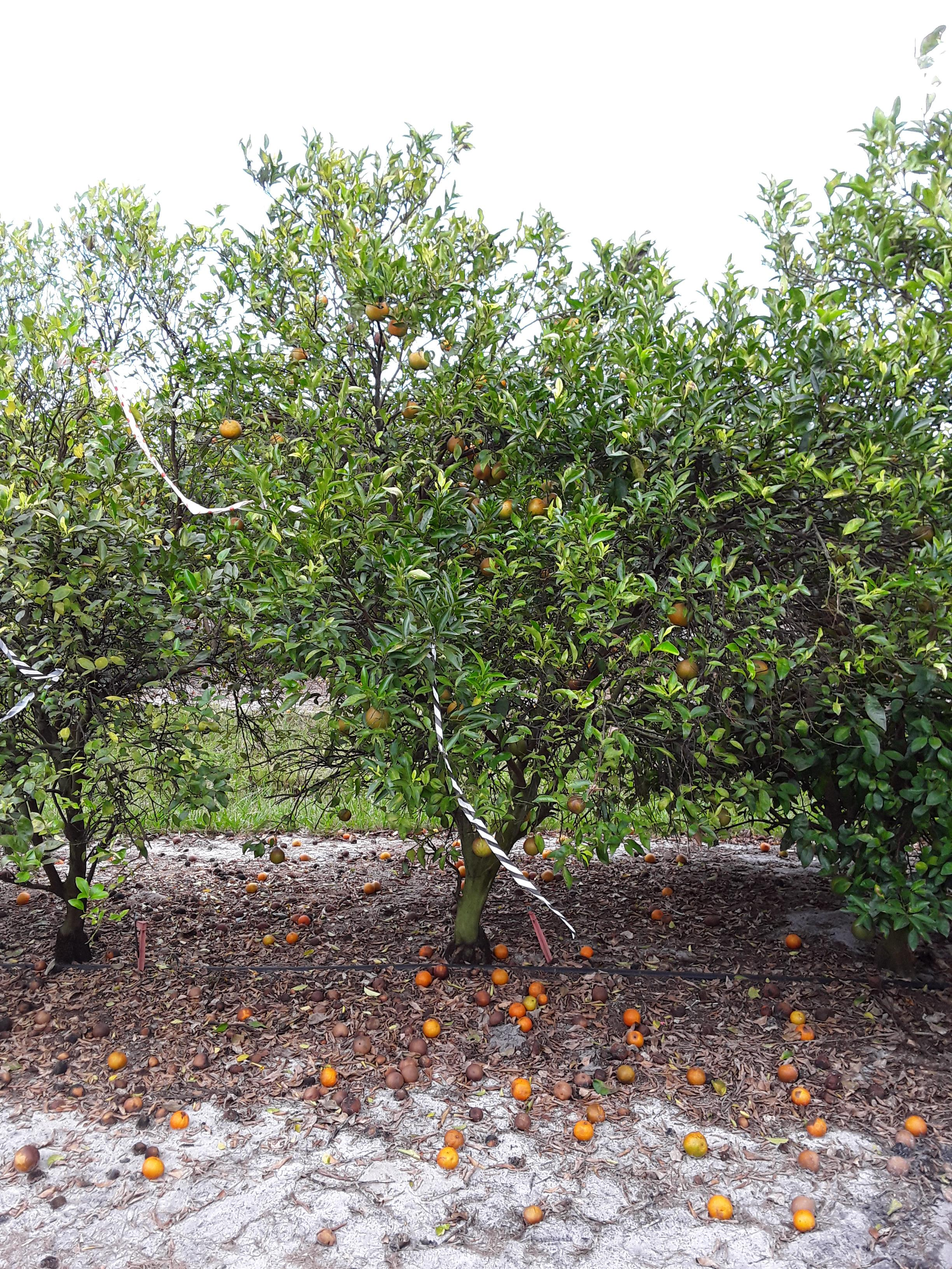fruit_on_ground: (364, 702, 399, 731), (674, 653, 703, 682), (831, 541, 861, 566), (919, 586, 943, 614), (912, 523, 938, 548), (219, 416, 244, 441), (854, 915, 877, 942), (668, 601, 690, 628), (472, 834, 495, 858), (521, 835, 546, 856), (364, 301, 390, 321), (407, 352, 432, 372), (567, 794, 589, 816), (446, 692, 466, 716), (387, 319, 413, 337), (446, 435, 469, 455), (747, 658, 771, 677), (472, 462, 494, 482), (540, 491, 562, 511), (495, 499, 515, 521), (509, 735, 529, 757), (527, 494, 546, 517), (267, 430, 288, 450), (492, 459, 510, 482), (549, 313, 569, 333), (539, 476, 560, 495), (714, 808, 733, 829), (428, 800, 448, 819), (619, 366, 638, 385), (565, 315, 584, 333), (585, 363, 604, 381), (470, 368, 487, 388), (478, 556, 494, 577), (464, 442, 482, 460), (118, 477, 135, 496), (471, 496, 488, 515), (228, 516, 247, 533), (182, 604, 202, 620), (372, 331, 390, 348), (406, 404, 422, 423), (434, 556, 450, 575), (537, 361, 556, 377), (314, 287, 329, 307), (344, 318, 359, 338), (345, 222, 362, 239), (464, 545, 483, 560), (439, 336, 454, 355), (520, 808, 536, 825), (291, 346, 304, 365), (337, 807, 353, 822), (539, 564, 553, 581), (456, 479, 474, 492), (566, 678, 580, 694), (499, 374, 511, 389), (587, 657, 598, 673)
fruit_on_tree: (10, 1145, 47, 1175), (705, 1192, 736, 1223), (681, 1129, 711, 1160), (139, 1155, 169, 1182), (791, 1206, 819, 1234), (797, 1148, 825, 1175), (906, 1112, 932, 1140), (887, 1153, 913, 1180), (682, 1064, 709, 1089), (576, 1119, 601, 1146), (789, 1194, 819, 1215), (513, 1080, 536, 1106), (436, 1147, 459, 1173), (552, 1078, 575, 1103), (793, 1022, 819, 1044), (521, 1204, 547, 1226), (805, 1116, 829, 1139), (894, 1126, 917, 1150), (584, 1101, 606, 1126), (315, 1228, 340, 1248), (106, 1051, 132, 1070), (573, 1070, 595, 1092), (465, 1062, 487, 1083), (352, 1035, 372, 1058), (407, 1037, 430, 1057), (168, 1108, 187, 1132), (413, 970, 435, 990), (192, 1051, 214, 1071), (100, 1109, 122, 1129), (422, 1017, 441, 1040), (322, 1068, 341, 1091), (384, 1070, 407, 1089), (763, 980, 783, 1001), (814, 1003, 835, 1023), (791, 1084, 810, 1106), (65, 1083, 88, 1101), (0, 1063, 15, 1090), (91, 1021, 112, 1040), (610, 1040, 629, 1061), (124, 1090, 143, 1111), (342, 1092, 361, 1113), (134, 1112, 153, 1133), (444, 1129, 463, 1150), (625, 1005, 643, 1027), (38, 1254, 64, 1269), (774, 1000, 794, 1019), (516, 1016, 536, 1035), (824, 1070, 842, 1091), (866, 1083, 887, 1101), (625, 1029, 647, 1046), (814, 1052, 833, 1071), (571, 1012, 591, 1030), (401, 1064, 421, 1082), (517, 1117, 535, 1137), (506, 1002, 527, 1019), (780, 1061, 797, 1082), (234, 1007, 256, 1023), (14, 889, 34, 906), (620, 1067, 637, 1087), (527, 980, 548, 996), (481, 1134, 502, 1150), (49, 1194, 70, 1210), (303, 1086, 322, 1103), (260, 932, 278, 949), (432, 963, 449, 981), (868, 974, 886, 991), (757, 1002, 775, 1019), (467, 1105, 485, 1122), (130, 1138, 148, 1155), (594, 988, 610, 1007), (363, 1015, 382, 1031), (110, 1076, 130, 1091), (284, 929, 302, 945), (32, 958, 50, 974), (492, 968, 508, 986), (789, 1009, 807, 1025), (332, 1021, 348, 1039), (520, 995, 539, 1010), (418, 944, 435, 960), (476, 988, 492, 1005), (310, 989, 327, 1005), (419, 1053, 435, 1070), (295, 913, 313, 928), (493, 947, 508, 965), (16, 1000, 34, 1015), (488, 1012, 506, 1027), (52, 1060, 70, 1075), (245, 879, 259, 898), (34, 1010, 53, 1024), (371, 976, 387, 992), (670, 1003, 686, 1019), (0, 1016, 16, 1032), (28, 976, 45, 991), (137, 1023, 154, 1038), (331, 1090, 349, 1104), (360, 882, 379, 895), (593, 1067, 609, 1082), (186, 985, 203, 999), (327, 986, 341, 1003), (67, 1030, 80, 1048), (737, 1115, 752, 1130), (704, 910, 718, 926), (579, 944, 593, 960), (536, 993, 552, 1007), (399, 1023, 415, 1037), (147, 1052, 161, 1068), (392, 1088, 408, 1102), (154, 1104, 168, 1120), (649, 907, 662, 924), (314, 1000, 328, 1015), (108, 1166, 122, 1181), (786, 932, 799, 948), (248, 1052, 264, 1065), (147, 1143, 160, 1159), (105, 943, 117, 960), (266, 832, 280, 846), (516, 866, 530, 880), (617, 1105, 631, 1119), (450, 836, 465, 849), (540, 869, 555, 882), (255, 871, 271, 883), (253, 1001, 269, 1013), (555, 835, 572, 846), (662, 911, 673, 928), (452, 856, 467, 868), (458, 878, 471, 891), (380, 849, 392, 863), (373, 1052, 387, 1064), (404, 911, 420, 921), (228, 1063, 244, 1073), (398, 853, 411, 865), (257, 919, 270, 931), (456, 866, 470, 877), (53, 1051, 72, 1059), (639, 869, 651, 881), (554, 871, 566, 883), (133, 879, 145, 891), (174, 904, 186, 916), (217, 923, 229, 935), (778, 846, 789, 859), (644, 849, 655, 862), (674, 850, 685, 863), (269, 899, 282, 910), (377, 992, 390, 1003), (368, 846, 378, 860), (323, 903, 337, 913), (150, 913, 164, 923), (261, 988, 275, 998), (278, 993, 292, 1003), (291, 837, 303, 848), (760, 841, 772, 852), (542, 848, 553, 860), (300, 851, 311, 863), (527, 870, 539, 881), (663, 890, 674, 902), (626, 825, 639, 835), (173, 832, 183, 845), (187, 852, 200, 862), (224, 829, 236, 839), (288, 895, 300, 905), (432, 824, 441, 837), (232, 910, 246, 918), (417, 825, 428, 835), (236, 870, 246, 881), (308, 937, 320, 946), (213, 867, 224, 876), (0, 1032, 12, 1040), (341, 848, 352, 856), (184, 859, 192, 869), (343, 831, 351, 840), (279, 841, 288, 849), (208, 855, 217, 863), (311, 837, 318, 846)
